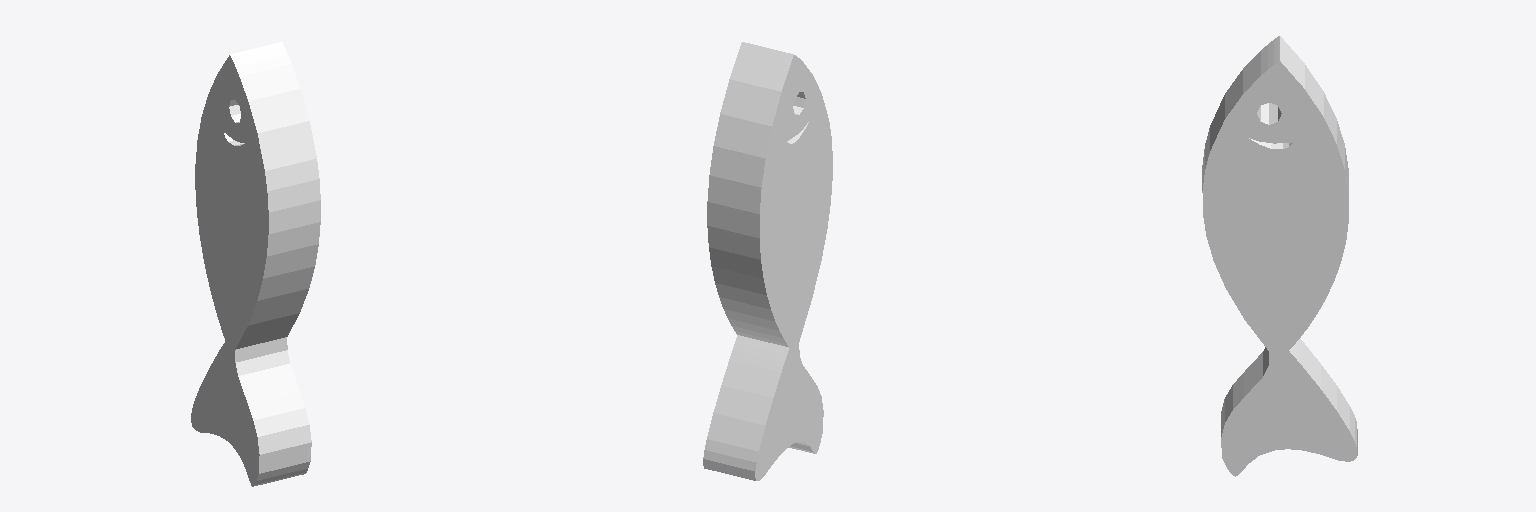
The model's file is fish-simple.obj.
3 renders of one model, left to right at view 1: azimuth 30°, elevation 25°; view 2: azimuth 150°, elevation 25°; view 3: azimuth 270°, elevation 25°, orthographic.
Visible parts, largest first — view 1: Spline_Object; view 2: Spline_Object; view 3: Spline_Object.
Boxes of the visible parts, <box> form: Spline_Object: <box>191,42,320,486</box>; Spline_Object: <box>703,42,832,480</box>; Spline_Object: <box>1202,36,1357,476</box>.
Bounding box in the file's own units: 5.55 × 42.23 × 14.27.